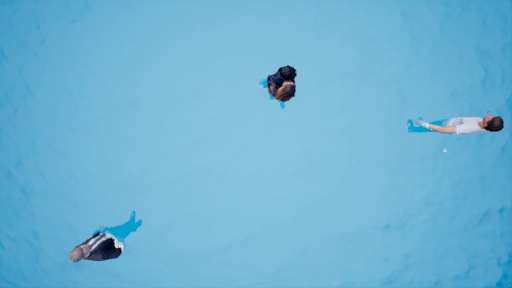person: (68, 214, 144, 267), (406, 107, 508, 144), (256, 59, 301, 115)
